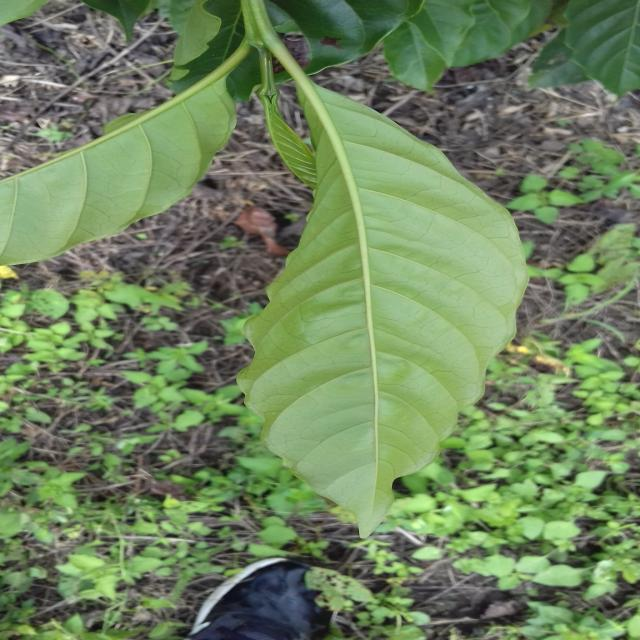Sanas: (238, 37, 532, 539)
